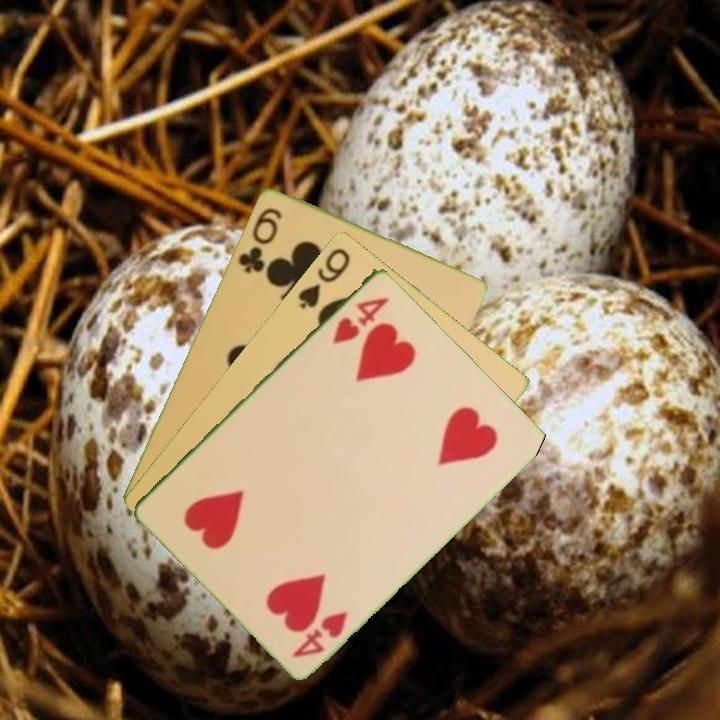4h: (288, 606, 351, 661), (329, 292, 393, 346)
6c: (234, 203, 284, 276)
9s: (294, 243, 353, 311)
